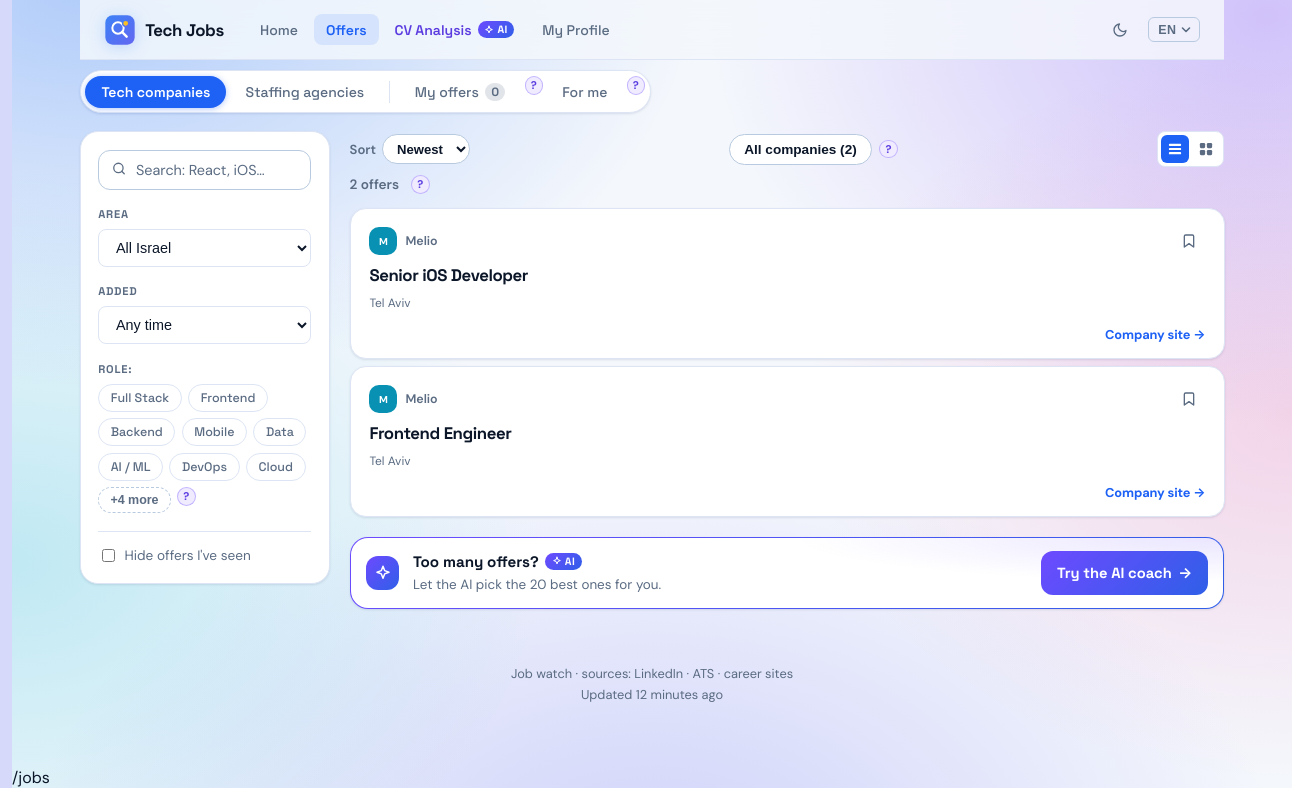
Test case: Autocomplete in the offers browser (integration) › picking a role adds it to the role filters and clears the typed text
The image size is (1292, 788).
Expected: the link "Frontend Engineer" is shown, [369,422,511,444]
In the dropdown labelled "Search: React, iOS…": (205, 170) [98,150,311,190], type "mob"
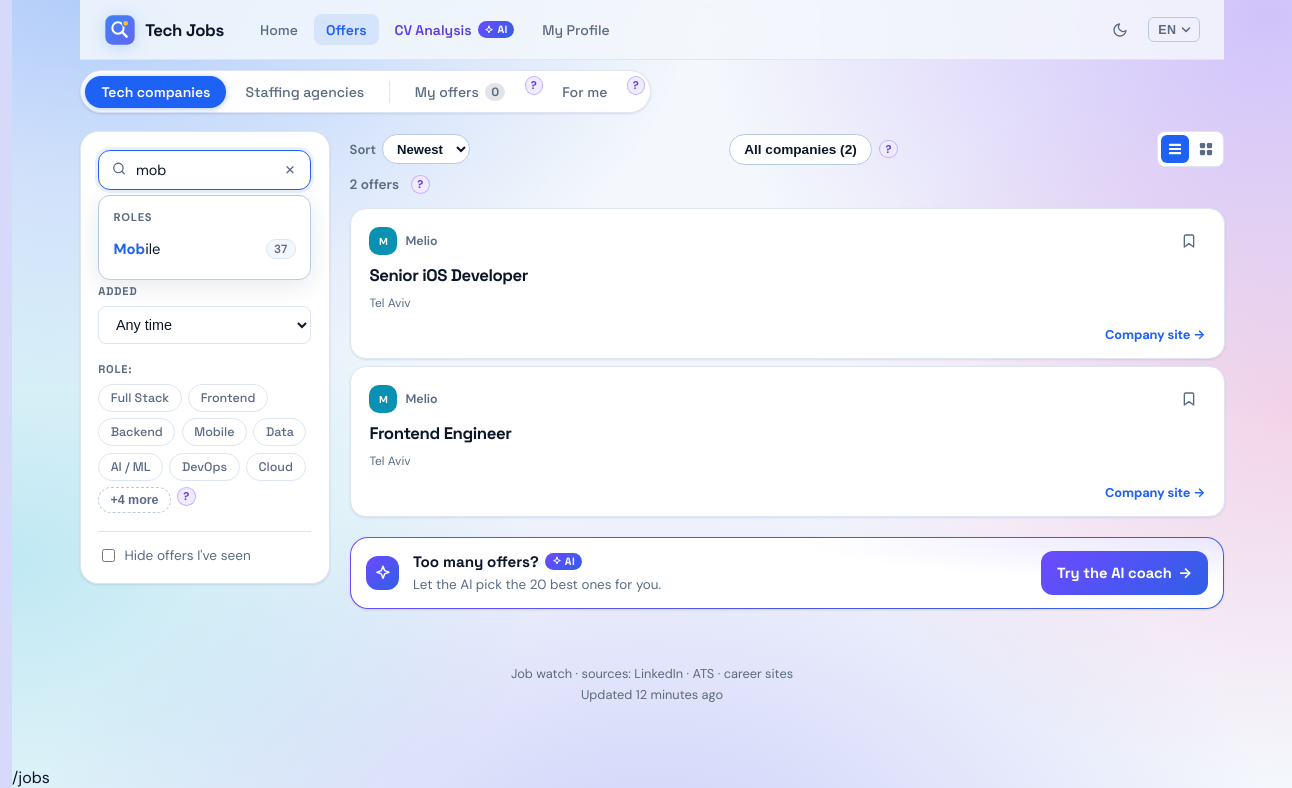
Click the option named "Mobile37": (129, 249) [114,239,296,259]
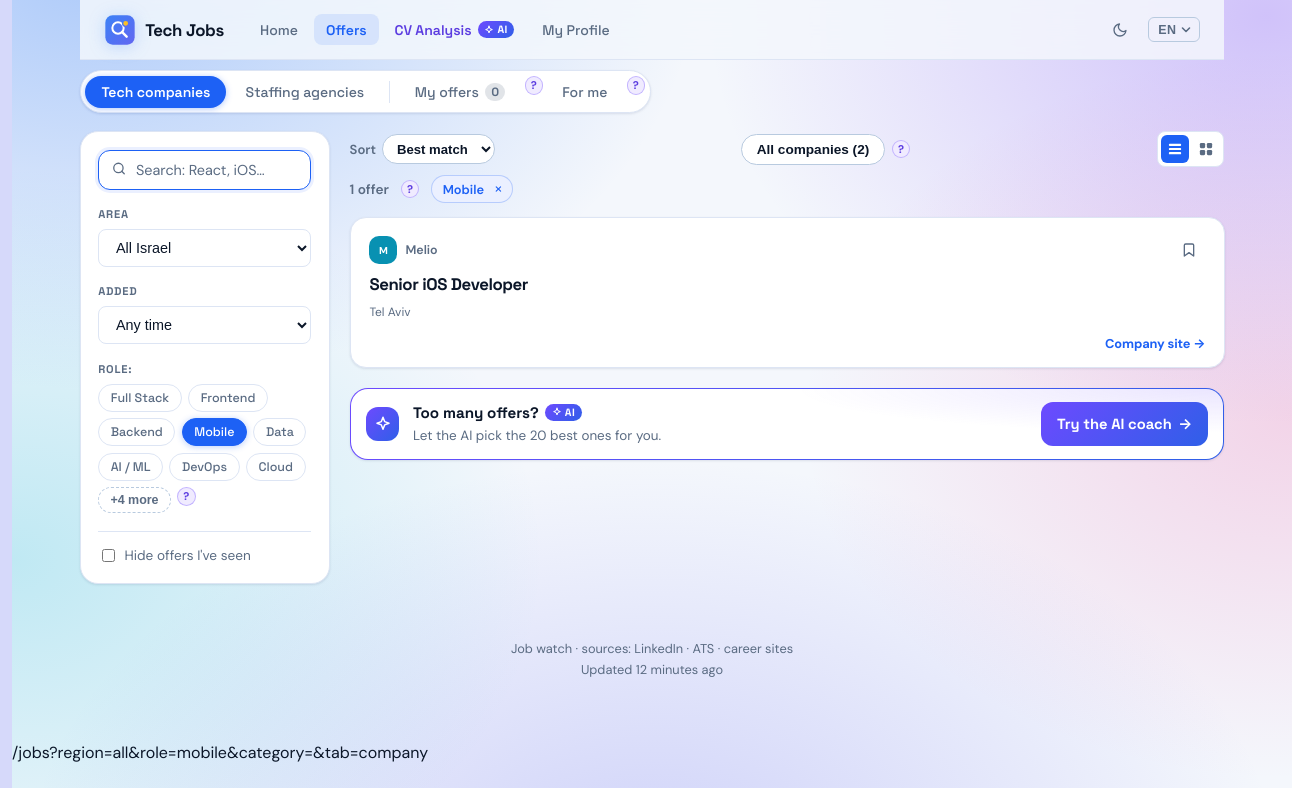
Expected: the button "Mobile" is shown, [182,418,247,446]
Result: the dropdown labelled "Search: React, iOS…" is empty at [98,150,311,190]
Result: the text with test id "location" shows "role=mobile" at [12,742,428,763]
